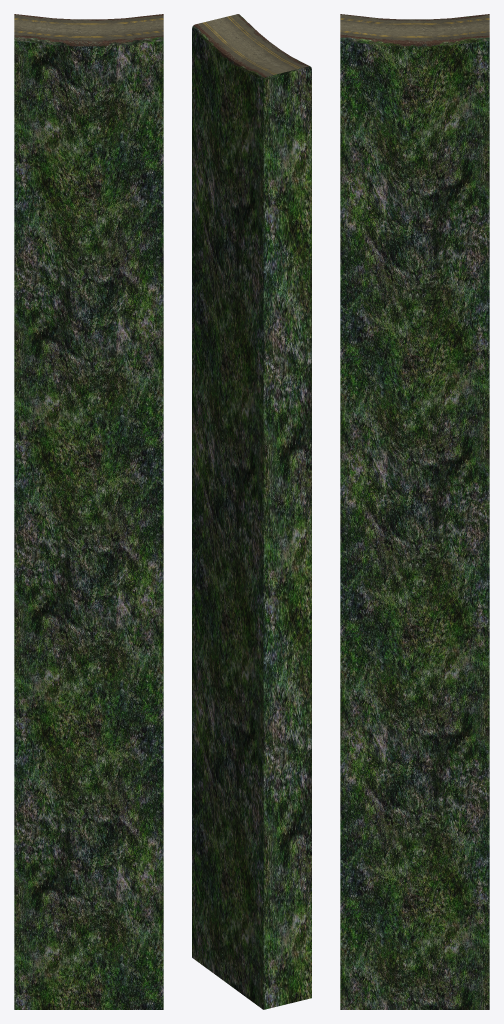
Rendered from straight Bend Down.fbx.
The picture shows the model from 3 angles, left to right: view 1: azimuth 90°, elevation 25°; view 2: azimuth 210°, elevation 25°; view 3: azimuth 270°, elevation 25°; orthographic projection. The views are drawn at different scales.
Visible parts, largest first — view 1: Straight Bend Down; view 2: Straight Bend Down; view 3: Straight Bend Down.
Boxes of the visible parts, <box> form: Straight Bend Down: <box>14,14,163,1009</box>; Straight Bend Down: <box>192,14,311,1009</box>; Straight Bend Down: <box>340,14,489,1009</box>.
Size of the model in its own units: 410 by 7538 by 1047.
